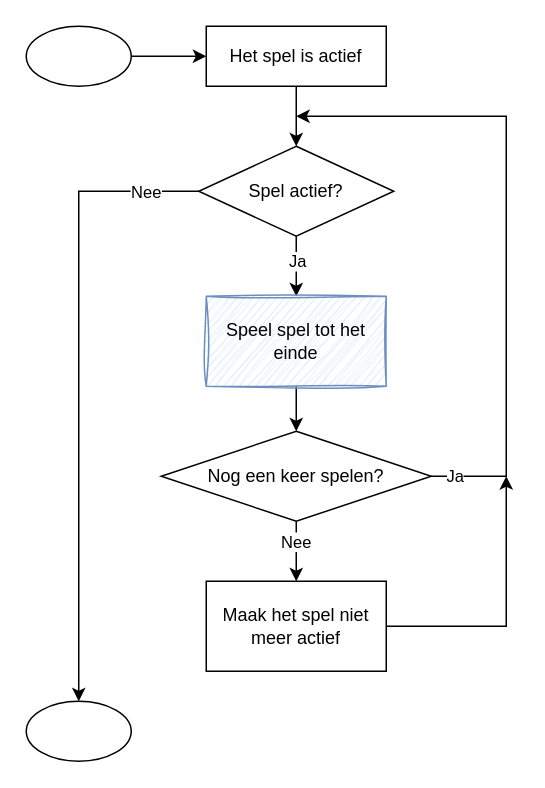
This 545x788 diagram has some shape labels left out. The centre of each missing label's shape, as x and y in pixels:
"Einde" goes at (x=78, y=730).
"Start" goes at (x=78, y=55).
